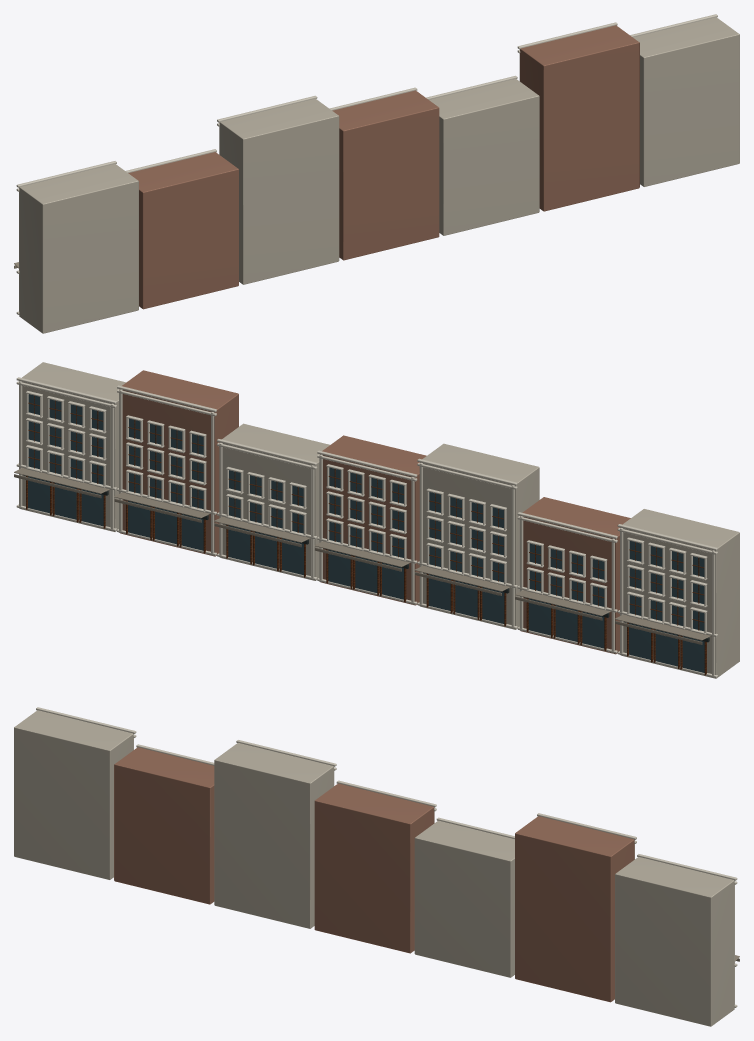
Rendered from atelier_streetscape.glb.
3 renders of one model, top to bottom at view 1: azimuth 30°, elevation 25°; view 2: azimuth 150°, elevation 25°; view 3: azimuth 330°, elevation 25°, orthographic.
Parts seen in each view (by area): view 1: atelier_streetscape / Atelier / warm limestone facade, atelier_streetscape / Atelier / fired brick facade, atelier_streetscape / Atelier / limestone mouldings; view 2: atelier_streetscape / Atelier / limestone mouldings, atelier_streetscape / Atelier / deep blue storefront glass, atelier_streetscape / Atelier / warm limestone facade, atelier_streetscape / Atelier / fired brick facade, atelier_streetscape / Atelier / linen upholstery, atelier_streetscape / Atelier / smoked oak, atelier_streetscape / Atelier / charcoal powder coat; view 3: atelier_streetscape / Atelier / warm limestone facade, atelier_streetscape / Atelier / fired brick facade, atelier_streetscape / Atelier / limestone mouldings.
Boxes of the visible parts, box(x1,y1,x2,y2) form: atelier_streetscape / Atelier / warm limestone facade: box(19, 17, 739, 333); atelier_streetscape / Atelier / fired brick facade: box(128, 25, 639, 309); atelier_streetscape / Atelier / limestone mouldings: box(16, 14, 717, 314); atelier_streetscape / Atelier / limestone mouldings: box(16, 377, 717, 677); atelier_streetscape / Atelier / deep blue storefront glass: box(28, 394, 704, 672); atelier_streetscape / Atelier / warm limestone facade: box(19, 362, 739, 678); atelier_streetscape / Atelier / fired brick facade: box(119, 370, 630, 654); atelier_streetscape / Atelier / linen upholstery: box(14, 468, 710, 644); atelier_streetscape / Atelier / smoked oak: box(26, 395, 706, 675); atelier_streetscape / Atelier / charcoal powder coat: box(23, 475, 709, 642); atelier_streetscape / Atelier / warm limestone facade: box(14, 710, 734, 1026); atelier_streetscape / Atelier / fired brick facade: box(114, 747, 634, 1002); atelier_streetscape / Atelier / limestone mouldings: box(36, 707, 737, 1007).
Bounding box in the file's own units: 40.52 × 8.18 × 3.37.
Materials: 7 (2 with a texture image).
